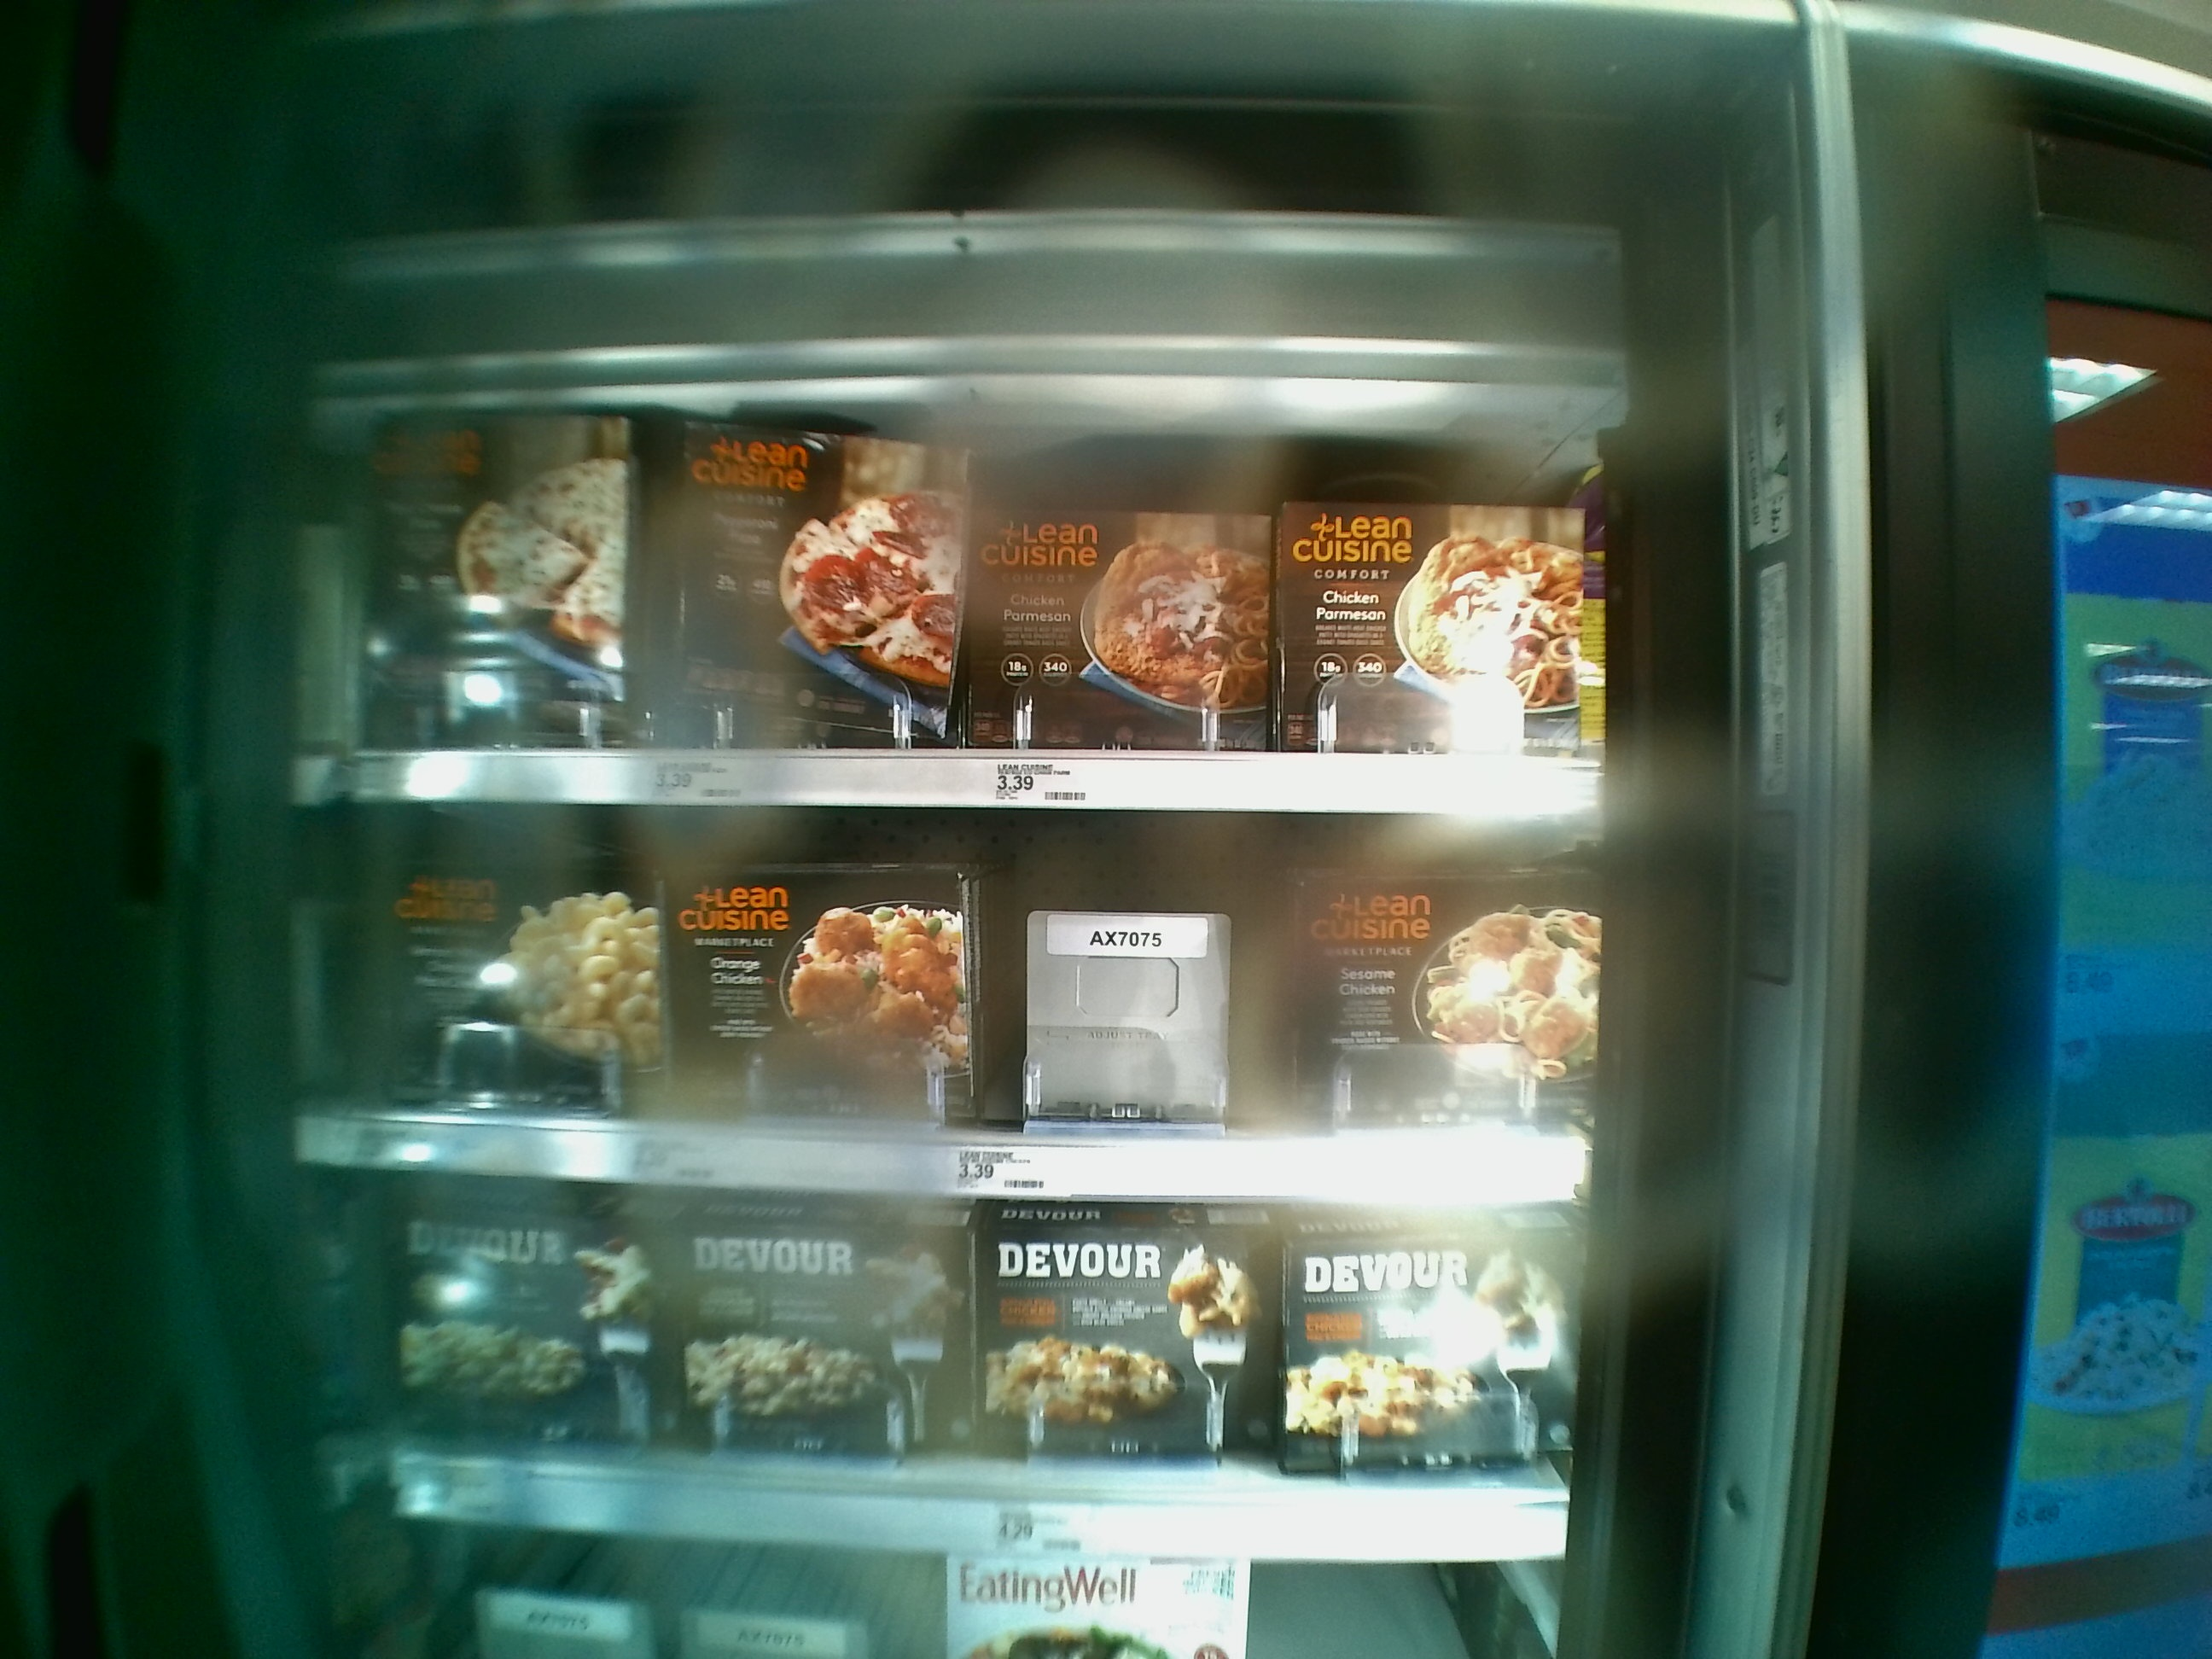shelf: (310, 362, 1595, 814), (289, 793, 1581, 1208), (301, 1166, 1571, 1565)
